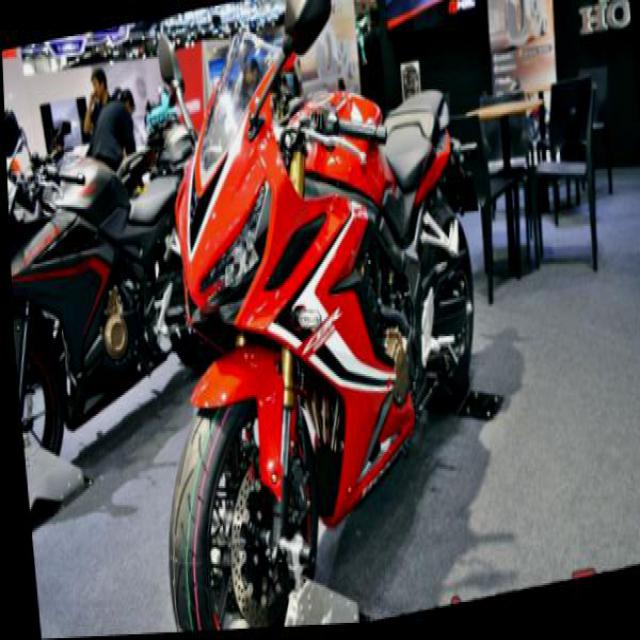CBR650R: (115, 0, 499, 633)
